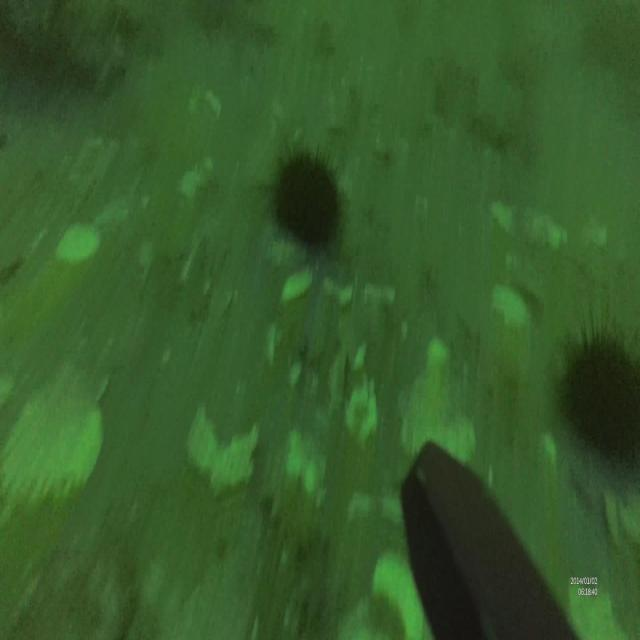echinus: (550, 294, 640, 498), (262, 140, 350, 252)
scallop: (0, 362, 108, 517), (185, 402, 260, 502)
